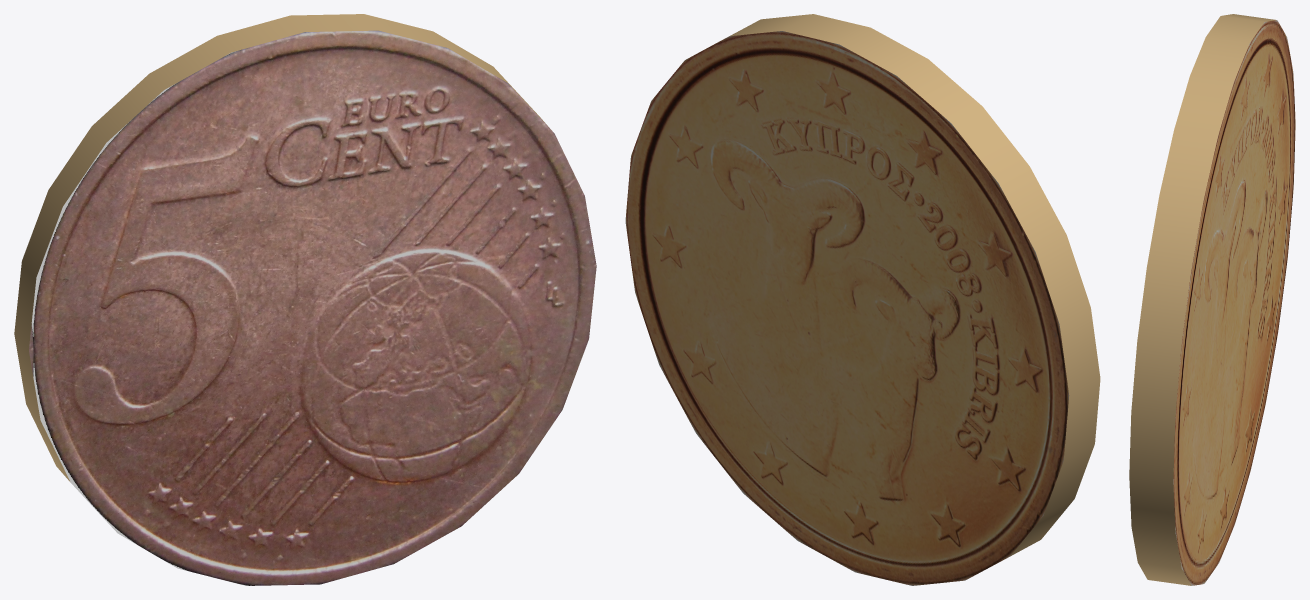
File: _oneda.fbx
The picture shows the model from 3 angles, left to right: view 1: azimuth 30°, elevation 25°; view 2: azimuth 150°, elevation 25°; view 3: azimuth 270°, elevation 25°; orthographic projection. The views are drawn at different scales.
Visible parts, largest first — view 1: Model; view 2: Model; view 3: Model.
Part boxes in pixels (x1=…): Model: x1=14, y1=14, x2=596, y2=585; Model: x1=625, y1=14, x2=1100, y2=585; Model: x1=1129, y1=14, x2=1295, y2=585.
Bounding box in the file's own units: 3.96 × 4 × 1.15.
3 materials, 2 textured.
